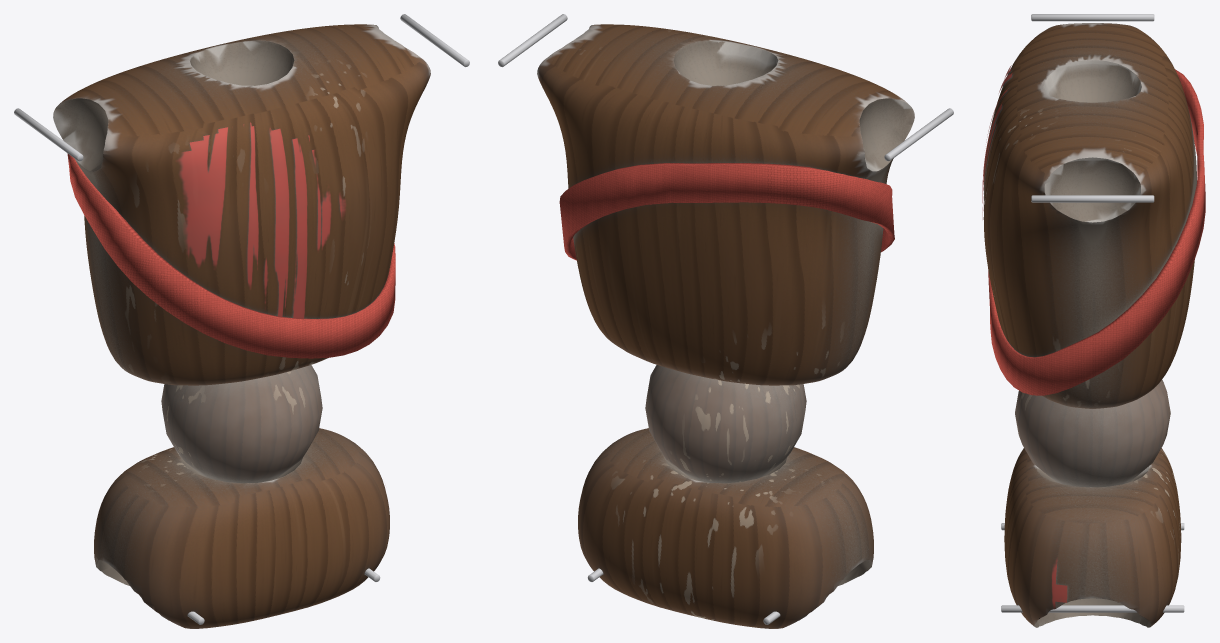
File: Torso.glb
3 renders of one model, left to right at view 1: azimuth 30°, elevation 25°; view 2: azimuth 150°, elevation 25°; view 3: azimuth 270°, elevation 25°, orthographic. The views are drawn at different scales.
Parts seen in each view (by area): view 1: Torso, Torso_Strap, Torso_Paint, Torso_PinS_R, Torso_PinS_L; view 2: Torso, Torso_Strap, Torso_PinS_R, Torso_PinS_L; view 3: Torso, Torso_Strap, Torso_PinS_R, Torso_PinS_L, Torso_PinH_L, Torso_Paint.
Part boxes in pixels (bbox=[...]): Torso: bbox=[53, 24, 430, 628]; Torso_Strap: bbox=[67, 153, 395, 358]; Torso_Paint: bbox=[176, 122, 345, 319]; Torso_PinS_R: bbox=[14, 108, 83, 161]; Torso_PinS_L: bbox=[400, 14, 469, 67]; Torso: bbox=[537, 24, 914, 628]; Torso_Strap: bbox=[559, 163, 894, 260]; Torso_PinS_R: bbox=[884, 108, 953, 161]; Torso_PinS_L: bbox=[498, 14, 567, 67]; Torso: bbox=[983, 23, 1196, 627]; Torso_Strap: bbox=[988, 69, 1205, 395]; Torso_PinS_R: bbox=[1031, 14, 1154, 21]; Torso_PinS_L: bbox=[1031, 195, 1154, 202]; Torso_PinH_L: bbox=[1001, 605, 1184, 612]; Torso_Paint: bbox=[982, 65, 1067, 608].
Bounding box in the file's own units: 0.4476 × 0.5838 × 0.2291.
4 materials, 3 textured.
